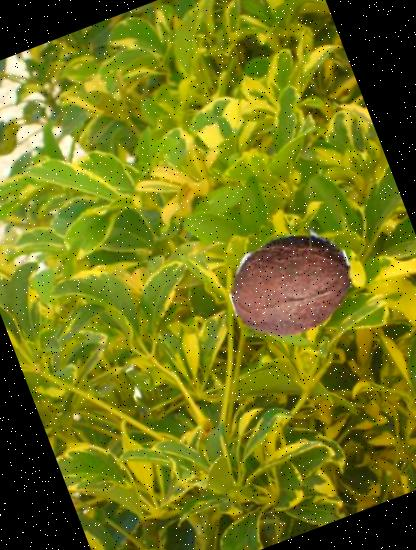Cocos: (208, 198, 370, 359)
